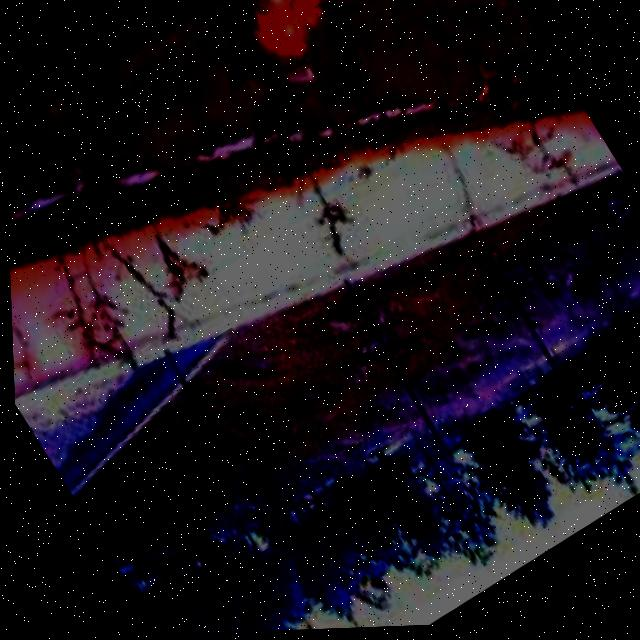Fire: (226, 0, 390, 77)
